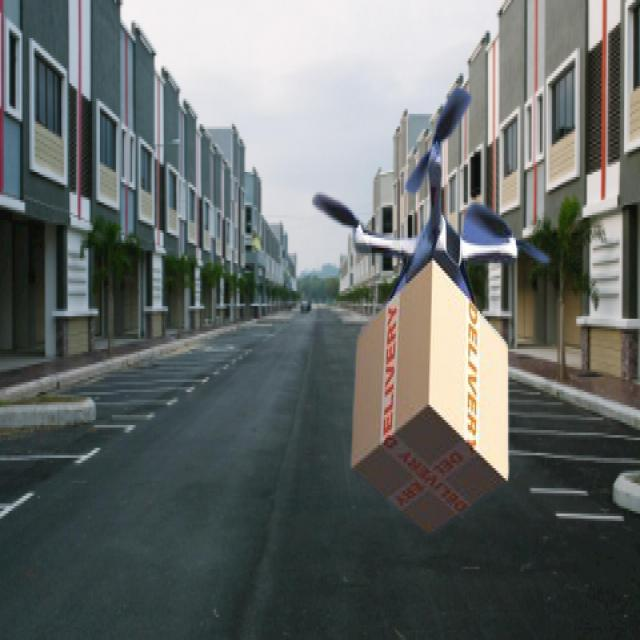drones: (300, 73, 558, 360)
